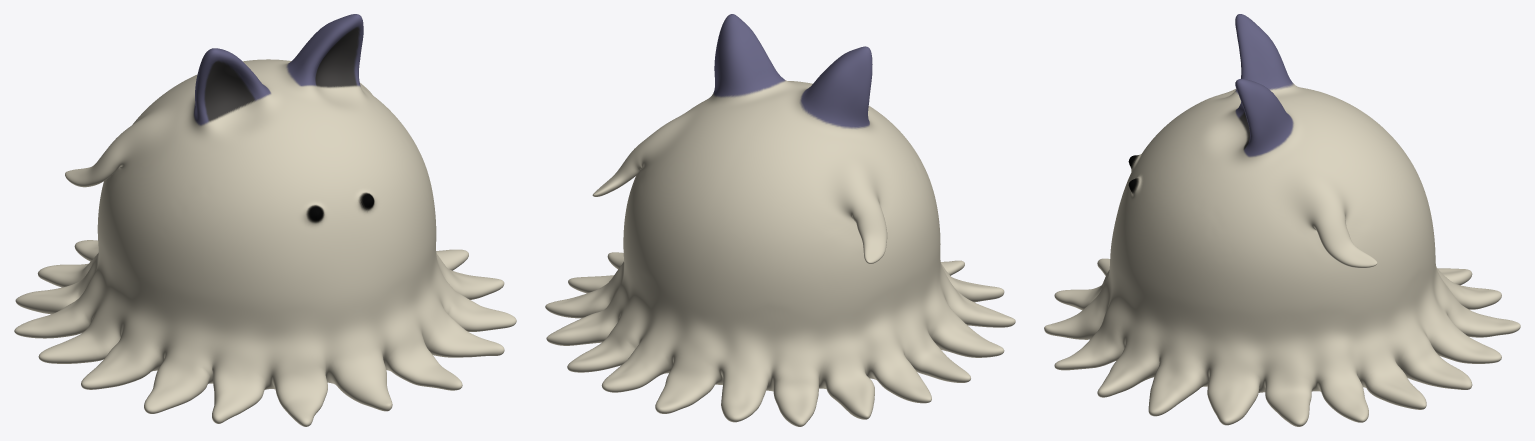
Rendered from swee.glb.
3 views of the same model, side by side, from view 1: azimuth 30°, elevation 25°; view 2: azimuth 150°, elevation 25°; view 3: azimuth 270°, elevation 25° (orthographic). The views are drawn at different scales.
Parts seen in each view (by area): view 1: SweeFinal; view 2: SweeFinal; view 3: SweeFinal.
Boxes of the visible parts, x1,y1,x2,y2 form: SweeFinal: (14, 14, 516, 426); SweeFinal: (545, 14, 1015, 426); SweeFinal: (1044, 14, 1520, 426).
Bounding box in the file's own units: 2.87 × 1.97 × 2.93.
Materials: 1 (1 with a texture image).
